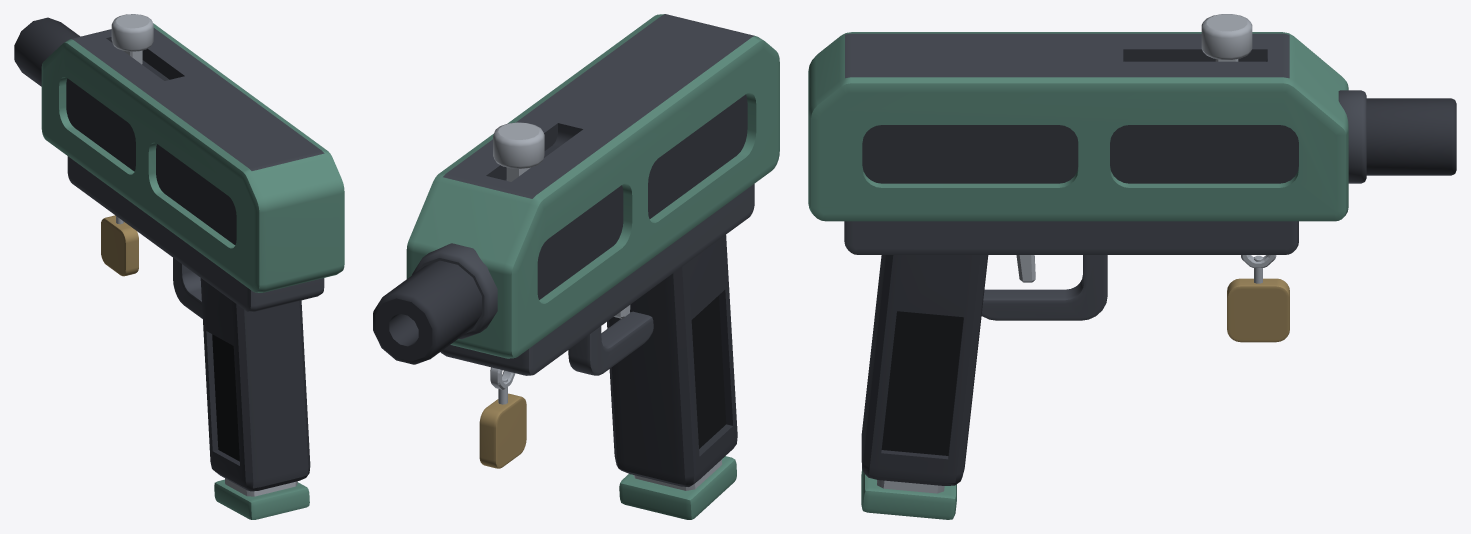
Rendered from w_akimbo.glb.
3 views of the same model, side by side, from view 1: azimuth 30°, elevation 25°; view 2: azimuth 150°, elevation 25°; view 3: azimuth 270°, elevation 25° (orthographic). The views are drawn at different scales.
Visible parts, largest first — view 1: body_wzA, grip_wzB, body_wzB, body_wzN, lower_wzB, grip_wzN, barrel_wzB, mag_wzA, tagR_wzN, cocker_wzN, guard_wzB, mag_wzB; view 2: body_wzA, grip_wzB, body_wzB, body_wzN, lower_wzB, barrel_wzB, grip_wzN, mag_wzA, guard_wzB, tagR_wzN, cocker_wzN, nut_wzB (+1 smaller); view 3: body_wzA, body_wzN, body_wzB, lower_wzB, grip_wzB, grip_wzN, barrel_wzB, guard_wzB, tagR_wzN, mag_wzA, cocker_wzN, nut_wzB.
Part boxes in pixels (x1,y1,x2,y2): body_wzA: [41, 23, 344, 292]; grip_wzB: [200, 278, 310, 491]; body_wzB: [71, 28, 324, 170]; body_wzN: [66, 37, 236, 244]; lower_wzB: [67, 156, 324, 312]; grip_wzN: [212, 334, 239, 461]; barrel_wzB: [14, 17, 80, 86]; mag_wzA: [214, 479, 309, 519]; tagR_wzN: [101, 215, 138, 276]; cocker_wzN: [111, 14, 153, 64]; guard_wzB: [173, 258, 202, 318]; mag_wzB: [225, 478, 297, 496]; body_wzA: [406, 14, 779, 358]; grip_wzB: [607, 235, 737, 486]; body_wzB: [443, 14, 754, 198]; body_wzN: [486, 94, 747, 299]; lower_wzB: [440, 184, 754, 375]; barrel_wzB: [373, 260, 481, 364]; grip_wzN: [691, 295, 726, 448]; mag_wzA: [619, 456, 736, 519]; guard_wzB: [568, 311, 653, 375]; tagR_wzN: [479, 393, 526, 468]; cocker_wzN: [493, 122, 544, 181]; nut_wzB: [411, 243, 497, 339]; body_wzA: [808, 32, 1348, 221]; body_wzN: [862, 49, 1298, 183]; body_wzB: [845, 33, 1289, 78]; lower_wzB: [844, 221, 1298, 254]; grip_wzB: [861, 255, 988, 485]; grip_wzN: [881, 311, 963, 455]; barrel_wzB: [1366, 98, 1456, 175]; guard_wzB: [981, 255, 1107, 320]; tagR_wzN: [1227, 278, 1289, 342]; mag_wzA: [861, 468, 956, 519]; cocker_wzN: [1201, 14, 1252, 61]; nut_wzB: [1338, 90, 1366, 183].
Bounding box in the file's own units: 0.056 × 0.2359 × 0.288.
